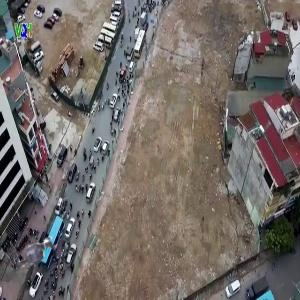drone: (1, 218, 68, 285)
